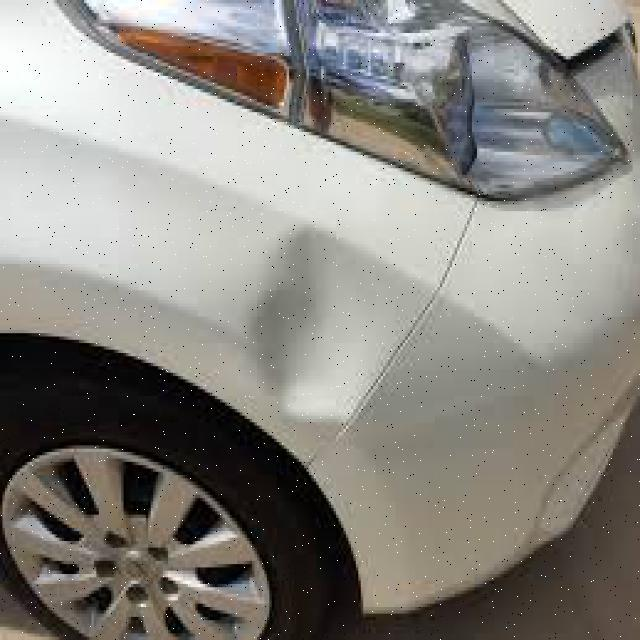fender-dent: (0, 159, 420, 489)
